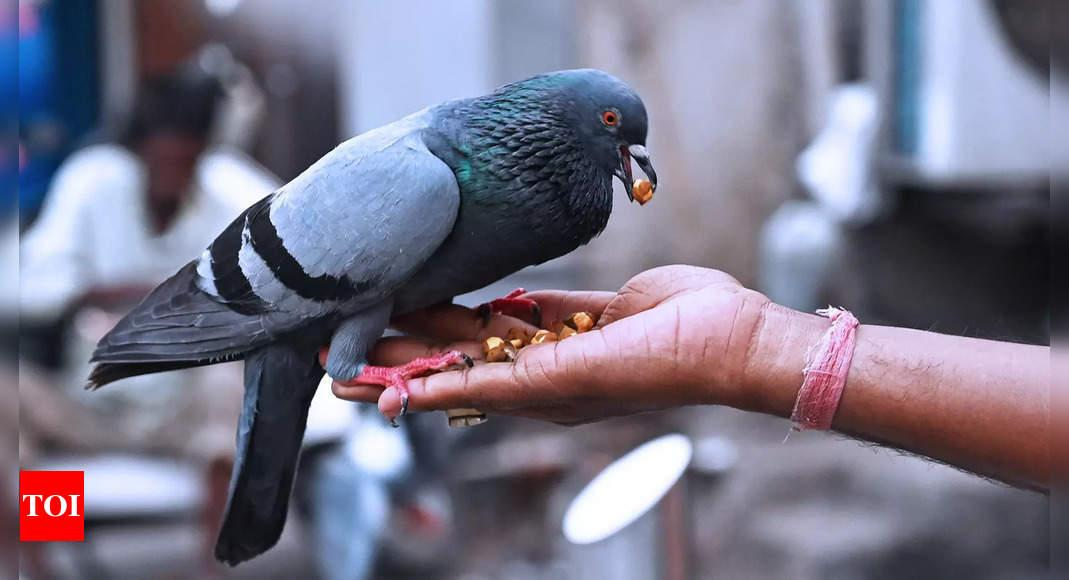Flying Rat: (104, 87, 668, 532)
